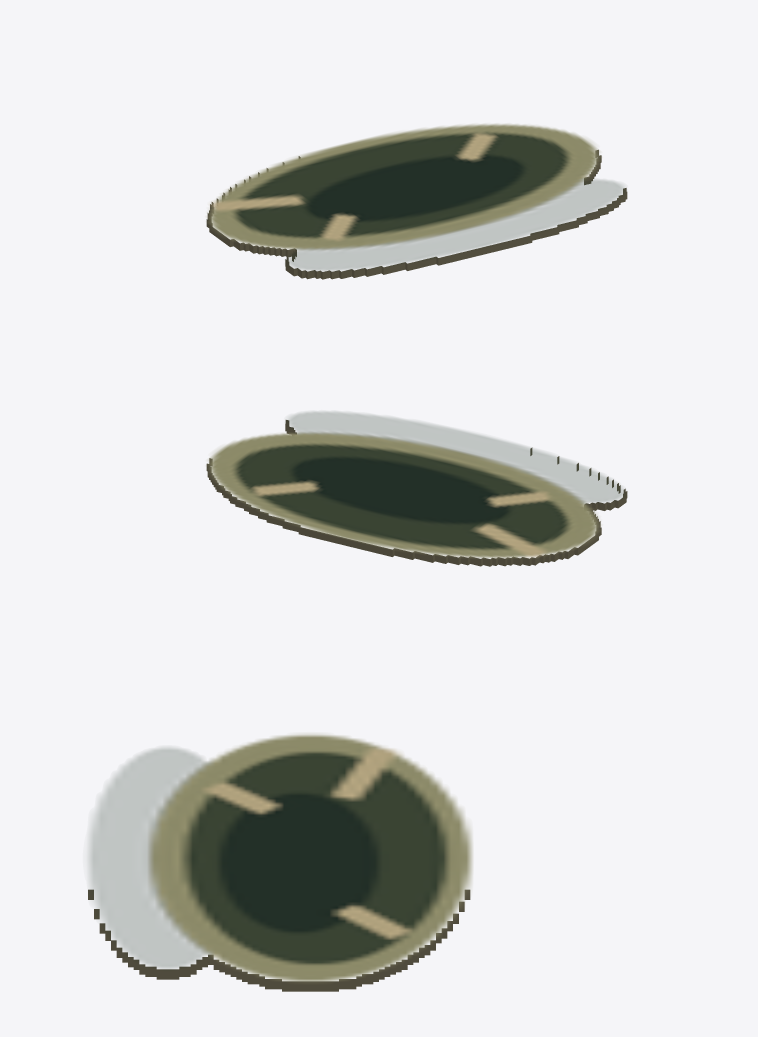
File: PitArtwork.glb
3 renders of one model, top to bottom at view 1: azimuth 30°, elevation 25°; view 2: azimuth 150°, elevation 25°; view 3: azimuth 270°, elevation 25°, orthographic. The views are drawn at different scales.
Parts seen in each view (by area): view 1: Visual; view 2: Visual; view 3: Visual.
Boxes of the visible parts, <box> form: Visual: <box>206,123,627,279</box>; Visual: <box>206,412,627,566</box>; Visual: <box>88,734,472,991</box>.
Size of the model in its own units: 1.28 by 0.02 by 1.28.
3 materials, 2 textured.
